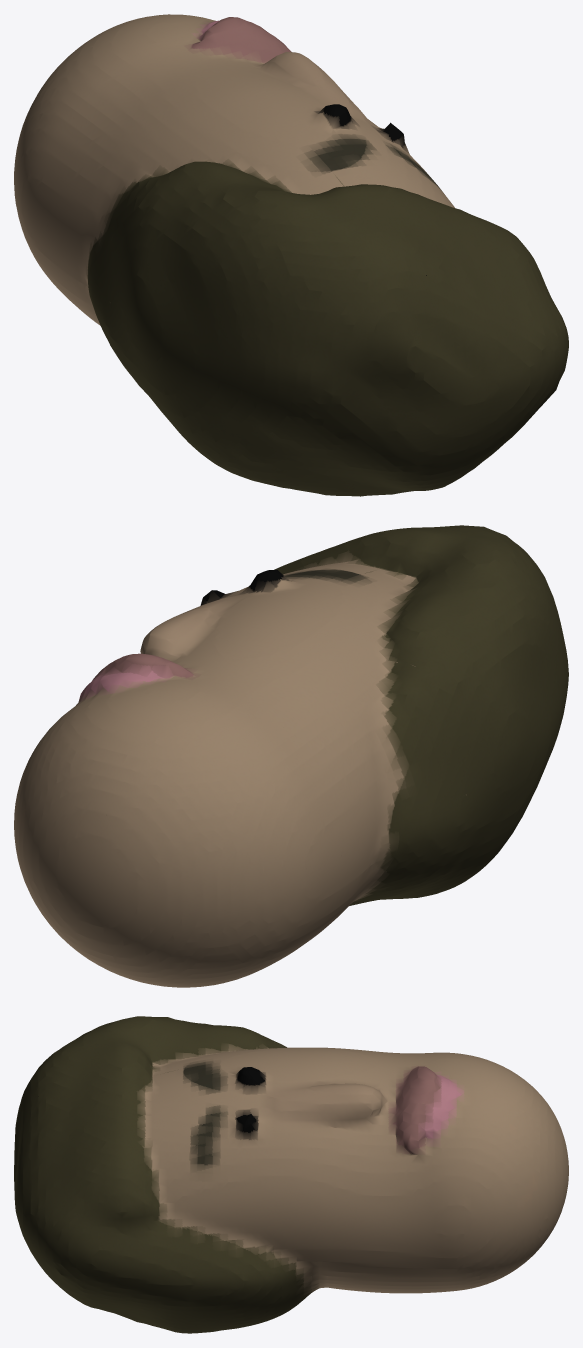
The model's file is cockblocker.gltf.
The picture shows the model from 3 angles, top to bottom: view 1: azimuth 30°, elevation 25°; view 2: azimuth 150°, elevation 25°; view 3: azimuth 270°, elevation 25°; orthographic projection. The views are drawn at different scales.
Visible parts, largest first — view 1: Layer_1; view 2: Layer_1; view 3: Layer_1.
Boxes of the visible parts, x1,y1,x2,y2 form: Layer_1: (14, 14, 568, 496); Layer_1: (14, 525, 568, 987); Layer_1: (14, 1016, 568, 1333).
Size of the model in its own units: 30.63 by 28.73 by 54.76.
1 material, 1 textured.
